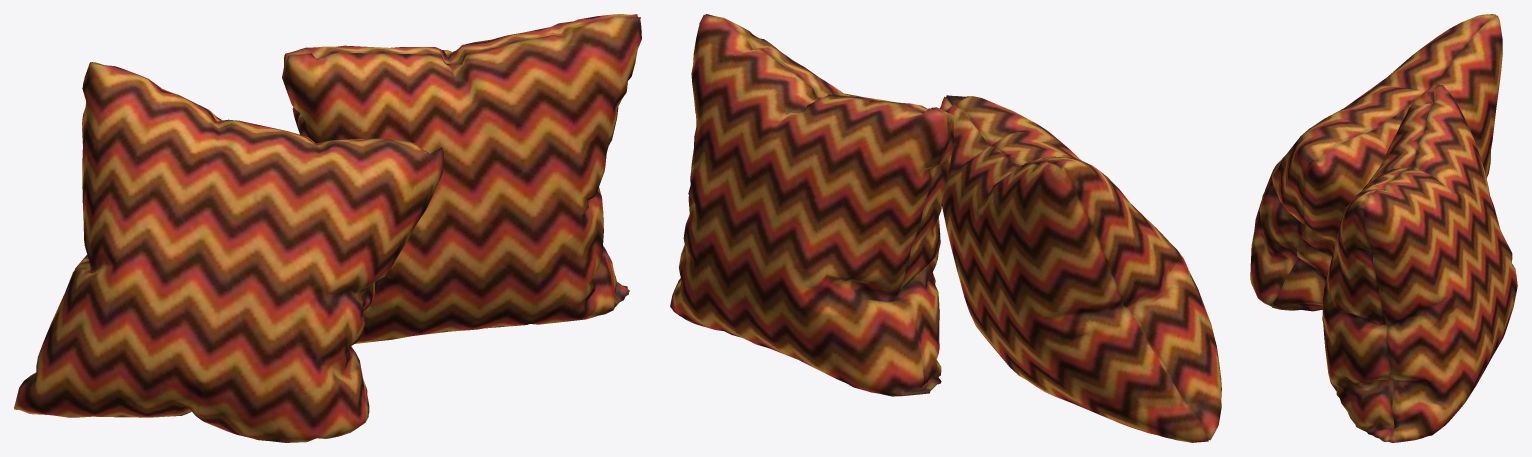
File: pillows.glb
3 renders of one model, left to right at view 1: azimuth 30°, elevation 25°; view 2: azimuth 150°, elevation 25°; view 3: azimuth 270°, elevation 25°, orthographic. The views are drawn at different scales.
Parts seen in each view (by area): view 1: throw_pillows_01_pillow01, throw_pillows_01_pillow02; view 2: throw_pillows_01_pillow02, throw_pillows_01_pillow01; view 3: throw_pillows_01_pillow02, throw_pillows_01_pillow01.
Boxes of the visible parts, left/top/right/bottom form: throw_pillows_01_pillow01: left=14, top=62, right=443, bottom=442; throw_pillows_01_pillow02: left=282, top=14, right=641, bottom=343; throw_pillows_01_pillow02: left=670, top=14, right=953, bottom=396; throw_pillows_01_pillow01: left=940, top=95, right=1221, bottom=442; throw_pillows_01_pillow02: left=1322, top=84, right=1517, bottom=442; throw_pillows_01_pillow01: left=1250, top=14, right=1502, bottom=311.
Size of the model in its own units: 0.9401 by 0.4502 by 0.4519.
Materials: 1 (1 with a texture image).
